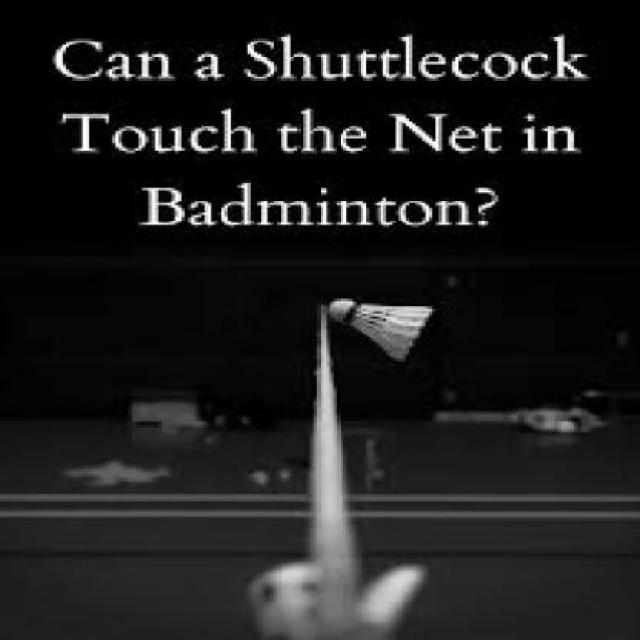Shuttlecock: (328, 294, 437, 361)
